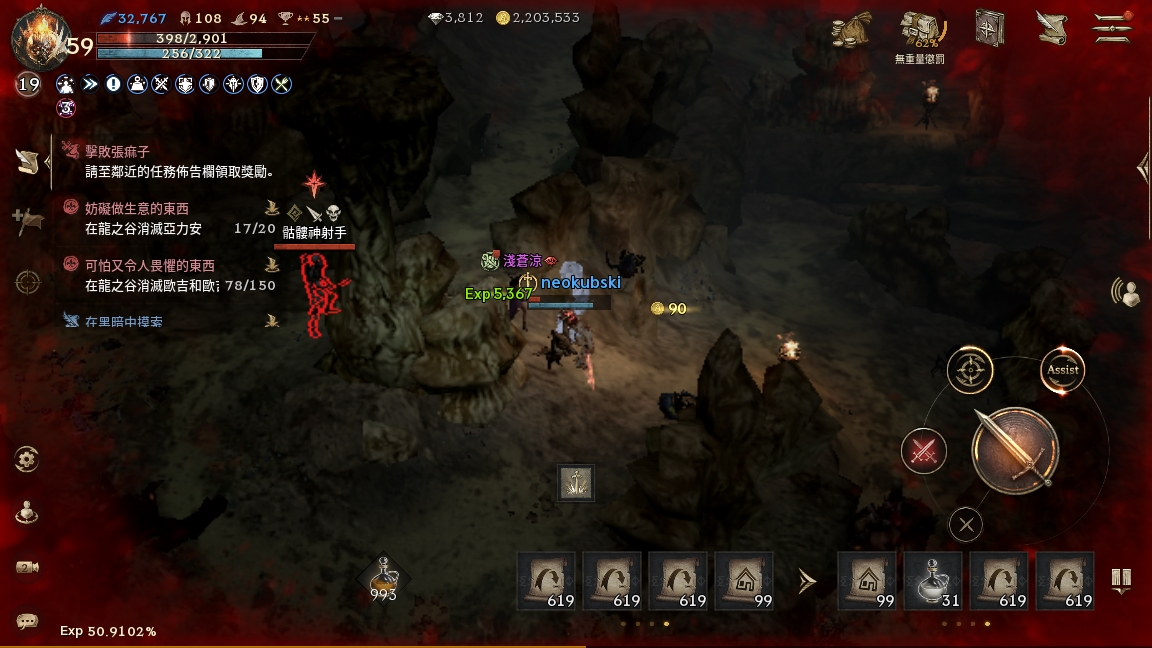enemy: (479, 247, 503, 273)
